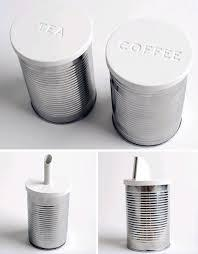Tin: (4, 2, 198, 254)
